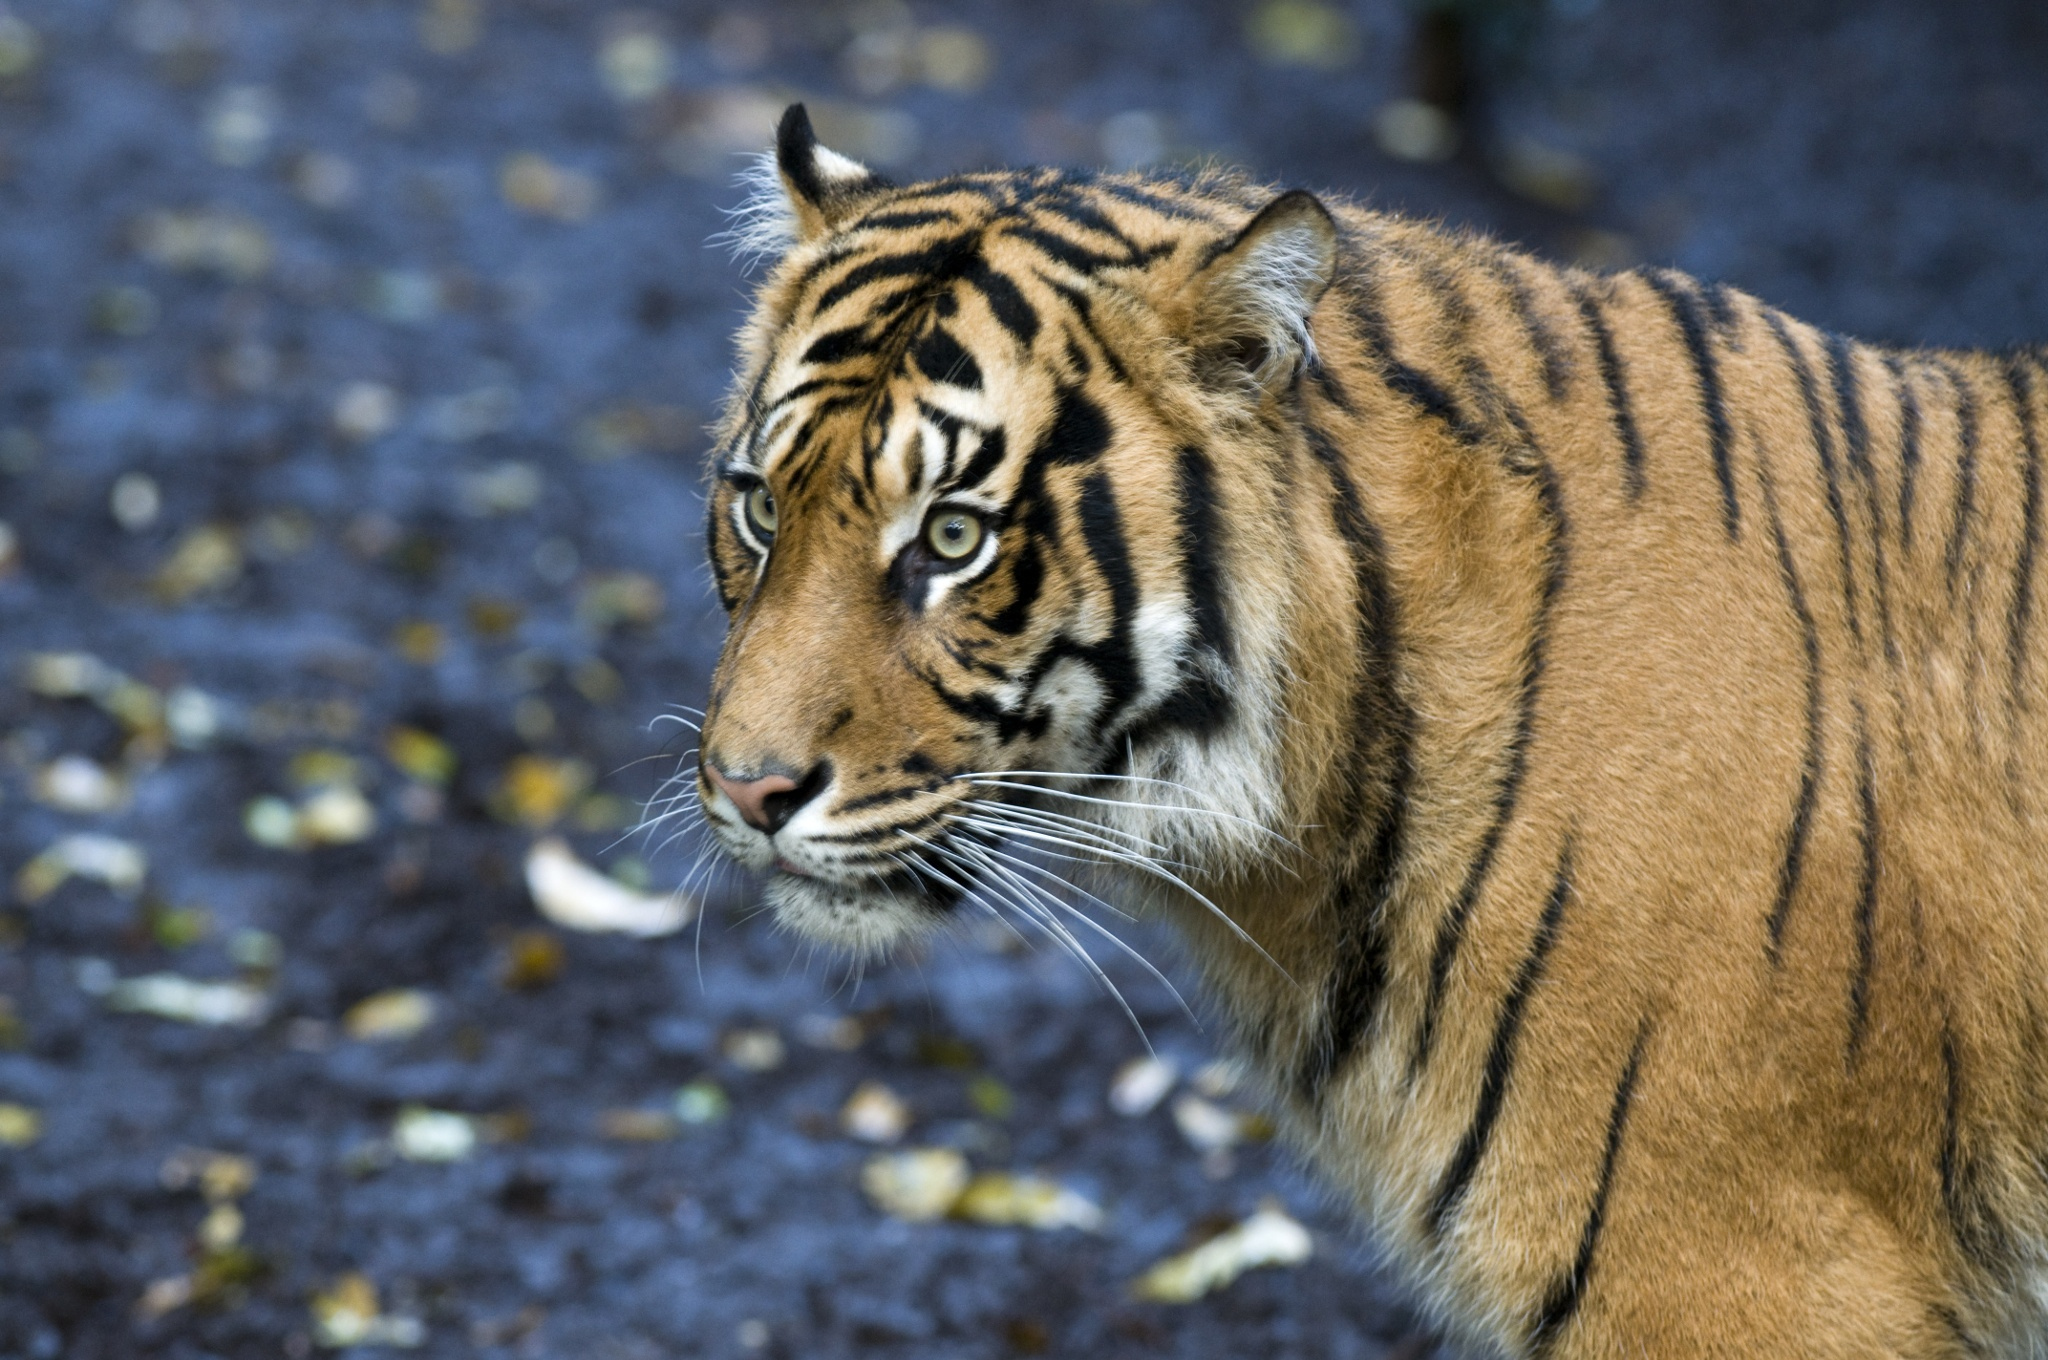tiger: (663, 87, 2028, 1289)
